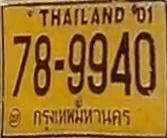0: (134, 31, 156, 93)
4: (110, 31, 130, 94)
7: (13, 36, 31, 96)
8: (33, 34, 50, 96)
9: (87, 33, 107, 94), (66, 34, 86, 94)
BKK: (29, 105, 135, 132)
